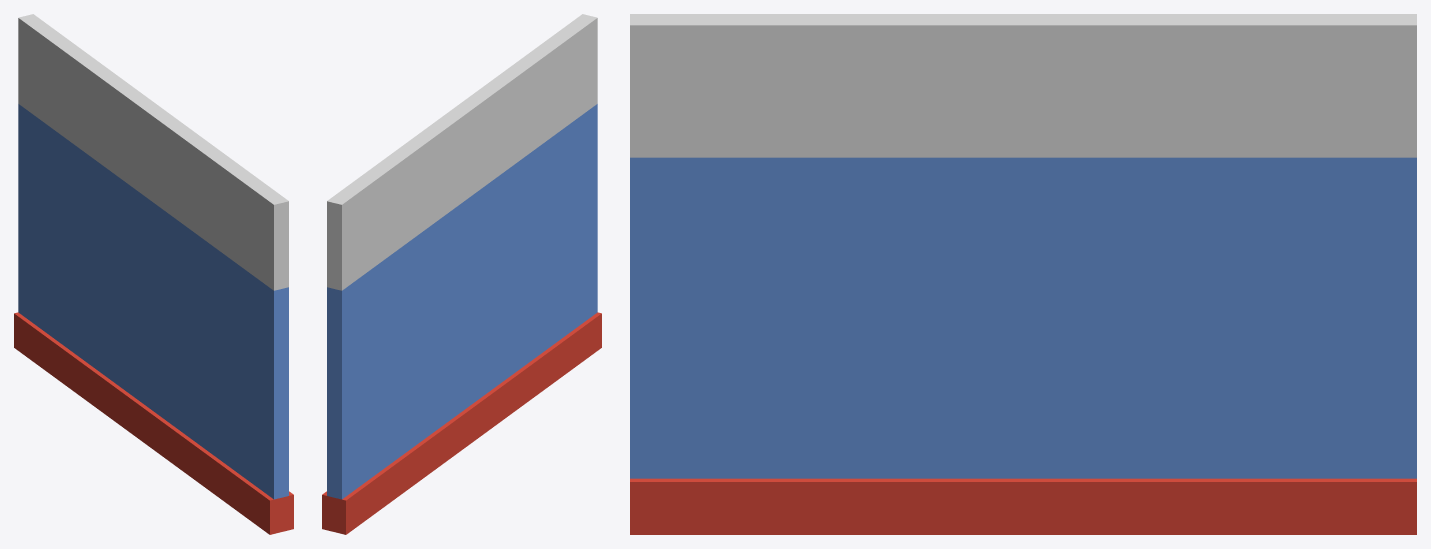
The model's file is new wall.fbx.
3 renders of one model, left to right at view 1: azimuth 30°, elevation 25°; view 2: azimuth 150°, elevation 25°; view 3: azimuth 270°, elevation 25°, orthographic. The views are drawn at different scales.
Parts seen in each view (by area): view 1: Cube; view 2: Cube; view 3: Cube.
Part boxes in pixels (x1,y1,x2,y2): Cube: (14,14,293,534); Cube: (322,14,601,534); Cube: (630,14,1416,534).
Bounding box in the file's own units: 64.11 × 838 × 1181.
